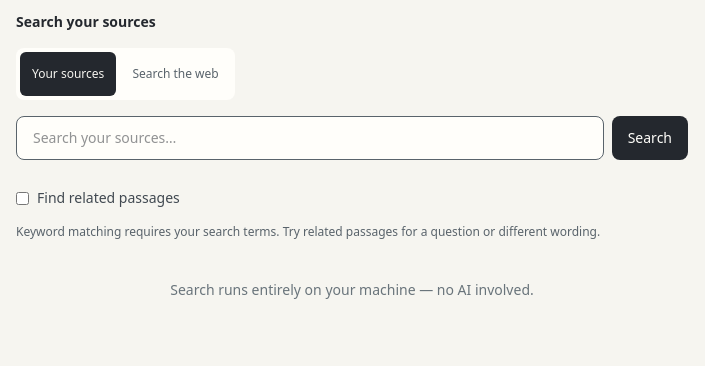
Test: keeps the latest web results when explicit requests settle out of order
Click the button "Search the web". click: (176, 74)
box: x1=120 y1=52 x2=231 y2=96
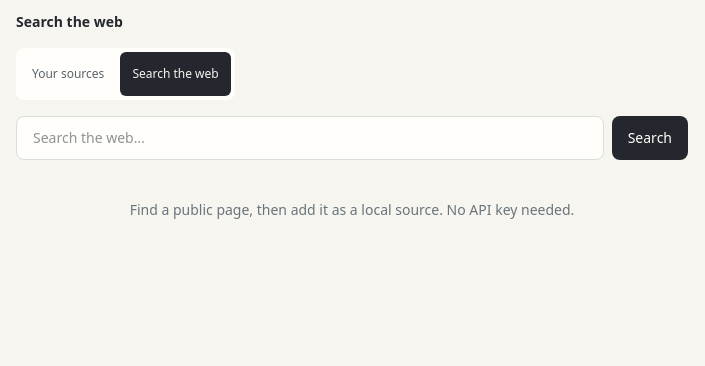
Type "first" into the search field. click: (310, 138)
box: x1=16 y1=116 x2=604 y2=160
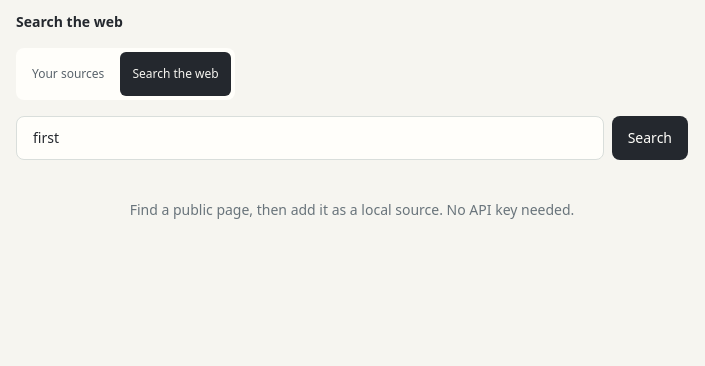
Submit the form, box x1=16 y1=116 x2=688 y2=160
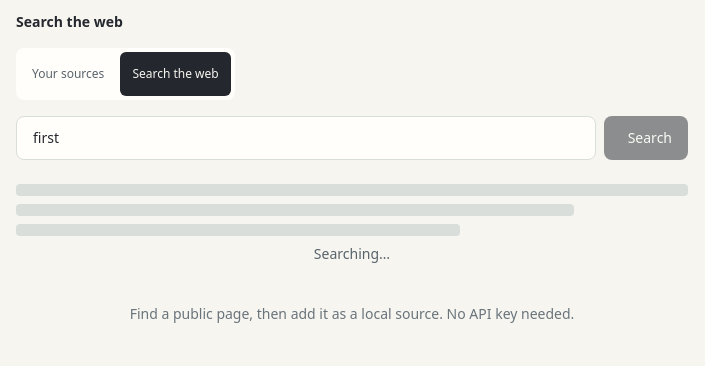
Replace the text in the search field with "second". click: (306, 138)
box: x1=16 y1=116 x2=596 y2=160
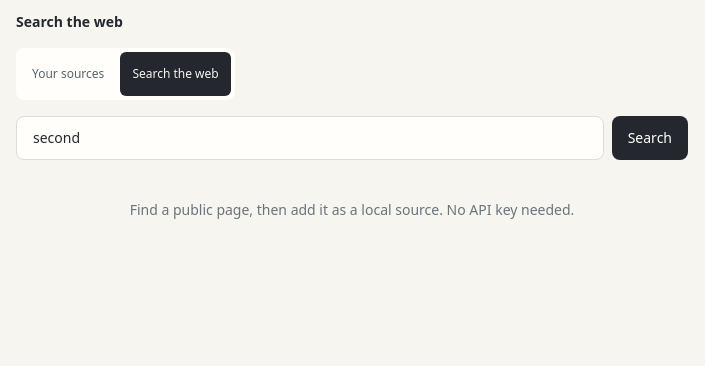
Submit the form, box x1=16 y1=116 x2=688 y2=160
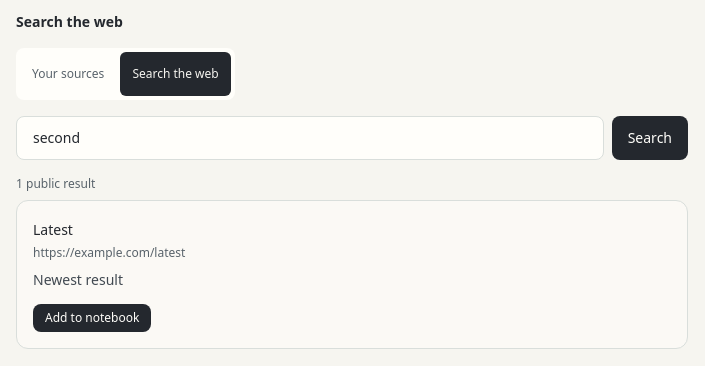
expect the text "Newest result" is shown: met, box x1=33 y1=270 x2=123 y2=289
